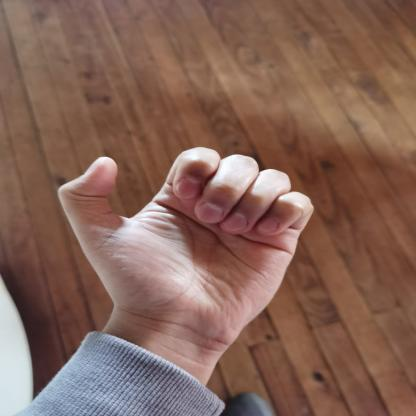E: (51, 136, 316, 352)
